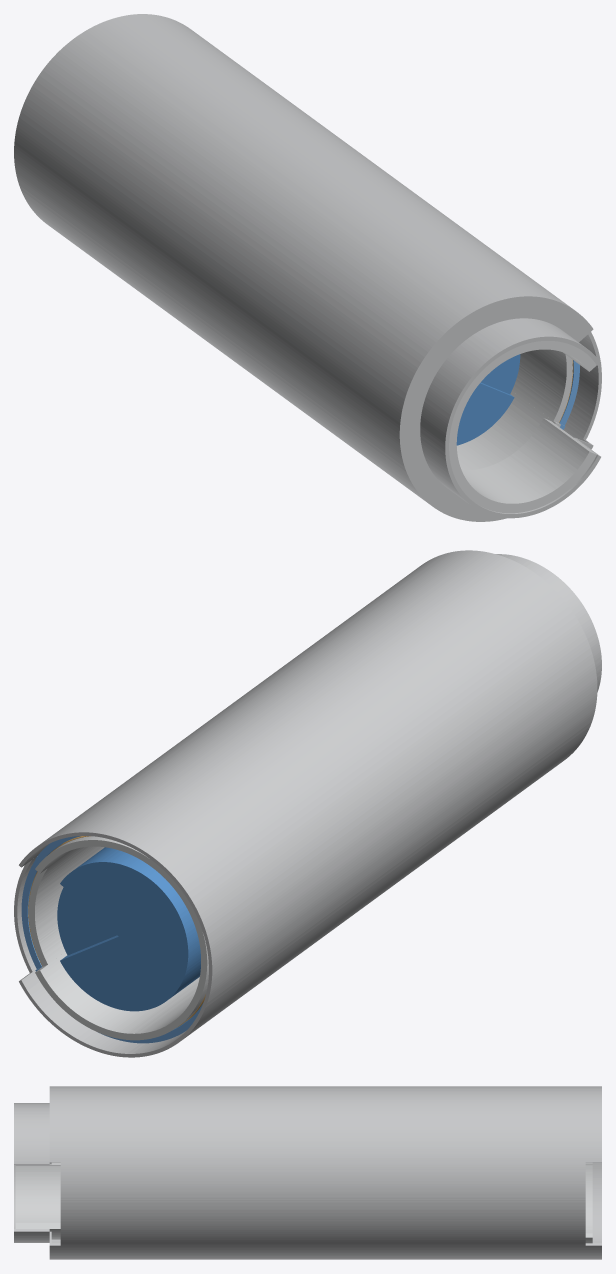
Rendered from thermal-cutaway.glb.
The picture shows the model from 3 angles, top to bottom: view 1: azimuth 30°, elevation 25°; view 2: azimuth 150°, elevation 25°; view 3: azimuth 270°, elevation 25°; orthographic projection. The views are drawn at different scales.
Visible parts, largest first — view 1: Outer_Main, Inner_Main, Inner_Wedge, Liquid_Main, Outer_Wedge, Liquid_Wedge; view 2: Outer_Main, Liquid_Main, Inner_Main, Inner_Wedge, Liquid_Wedge, Outer_Wedge, Vacuum_Main, Vacuum_Wedge; view 3: Outer_Main, Outer_Wedge, Inner_Main.
Boxes of the visible parts, x1,y1,x2,y2 form: Outer_Main: [14, 14, 600, 521]; Inner_Main: [449, 341, 596, 513]; Inner_Wedge: [512, 349, 572, 422]; Liquid_Main: [456, 382, 514, 445]; Outer_Wedge: [565, 332, 601, 439]; Liquid_Wedge: [481, 354, 520, 394]; Outer_Main: [19, 550, 601, 1057]; Liquid_Main: [60, 847, 200, 1011]; Inner_Main: [35, 836, 208, 1040]; Inner_Wedge: [28, 846, 104, 966]; Liquid_Wedge: [57, 887, 116, 955]; Outer_Wedge: [14, 856, 37, 972]; Vacuum_Main: [35, 836, 203, 1043]; Vacuum_Wedge: [21, 860, 42, 968]; Outer_Main: [14, 1086, 601, 1259]; Outer_Wedge: [60, 1162, 585, 1245]; Inner_Main: [15, 1162, 592, 1243].
Bounding box in the file's own units: 0.076 × 0.076 × 0.2576.
